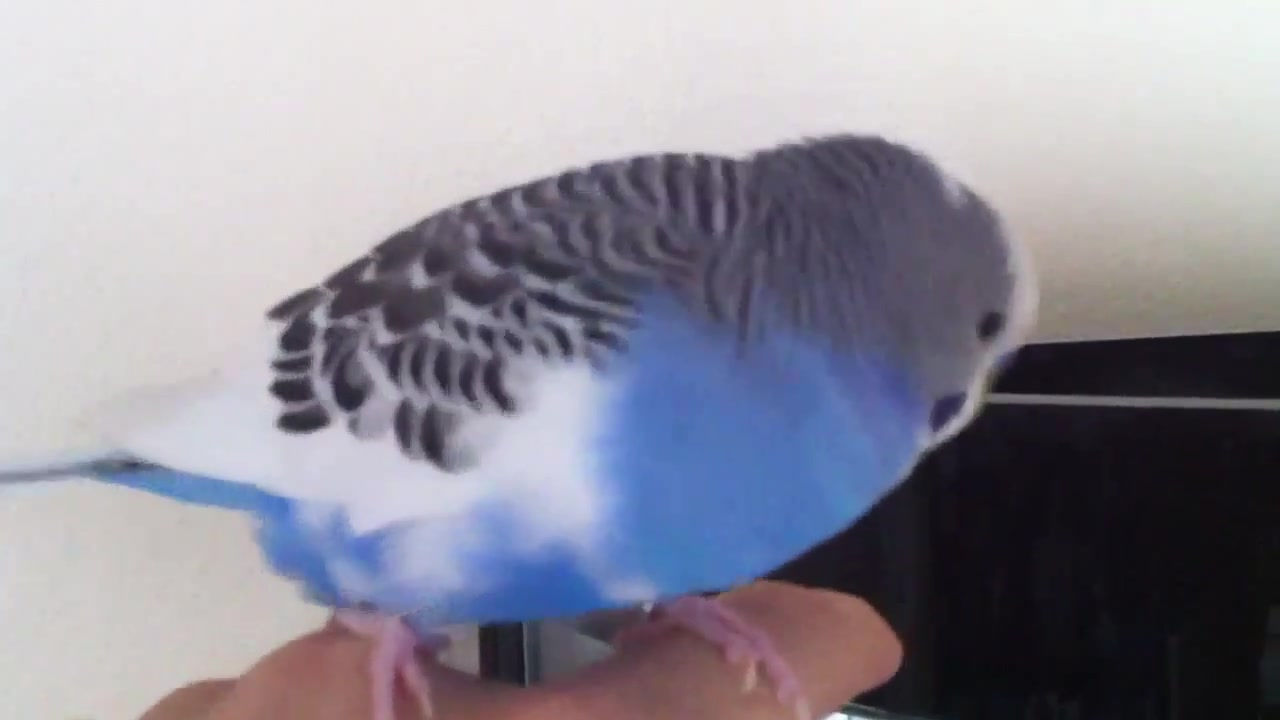bird: (1, 128, 1036, 719)
